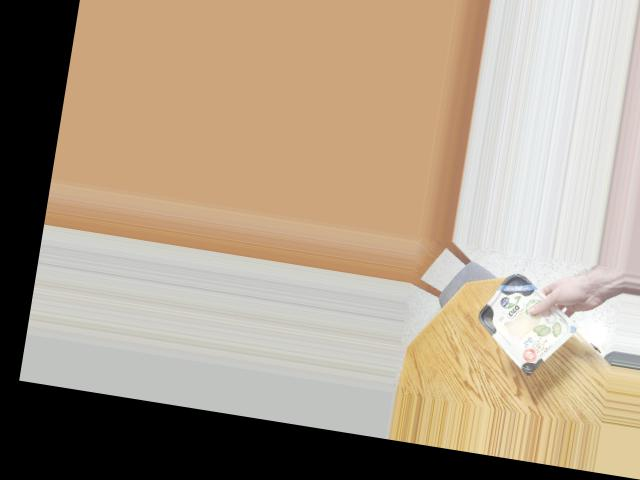cheese: (471, 266, 569, 371)
